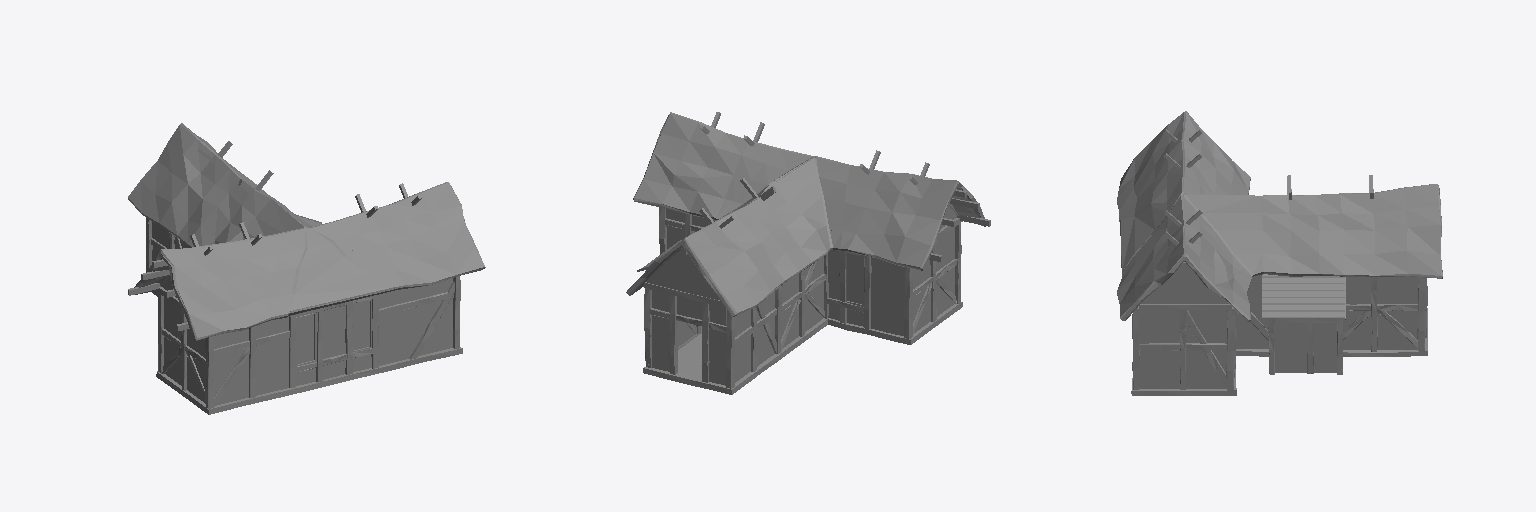
The model's file is p3d_medieval_enterable_bld-13.obj.
3 views of the same model, side by side, from view 1: azimuth 30°, elevation 25°; view 2: azimuth 150°, elevation 25°; view 3: azimuth 270°, elevation 25° (orthographic).
Parts seen in each view (by area): view 1: p3d_medieval_enterable_bld_13; view 2: p3d_medieval_enterable_bld_13; view 3: p3d_medieval_enterable_bld_13.
Boxes of the visible parts, x1,y1,x2,y2 form: p3d_medieval_enterable_bld_13: [128, 123, 485, 414]; p3d_medieval_enterable_bld_13: [626, 112, 990, 394]; p3d_medieval_enterable_bld_13: [1117, 111, 1442, 395].
Size of the model in its own units: 1156 by 562 by 1087.